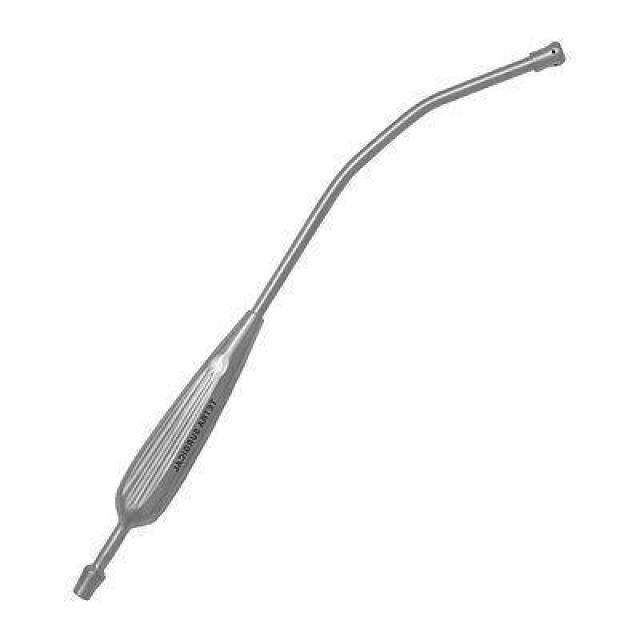Yankauer: (72, 39, 568, 602)
